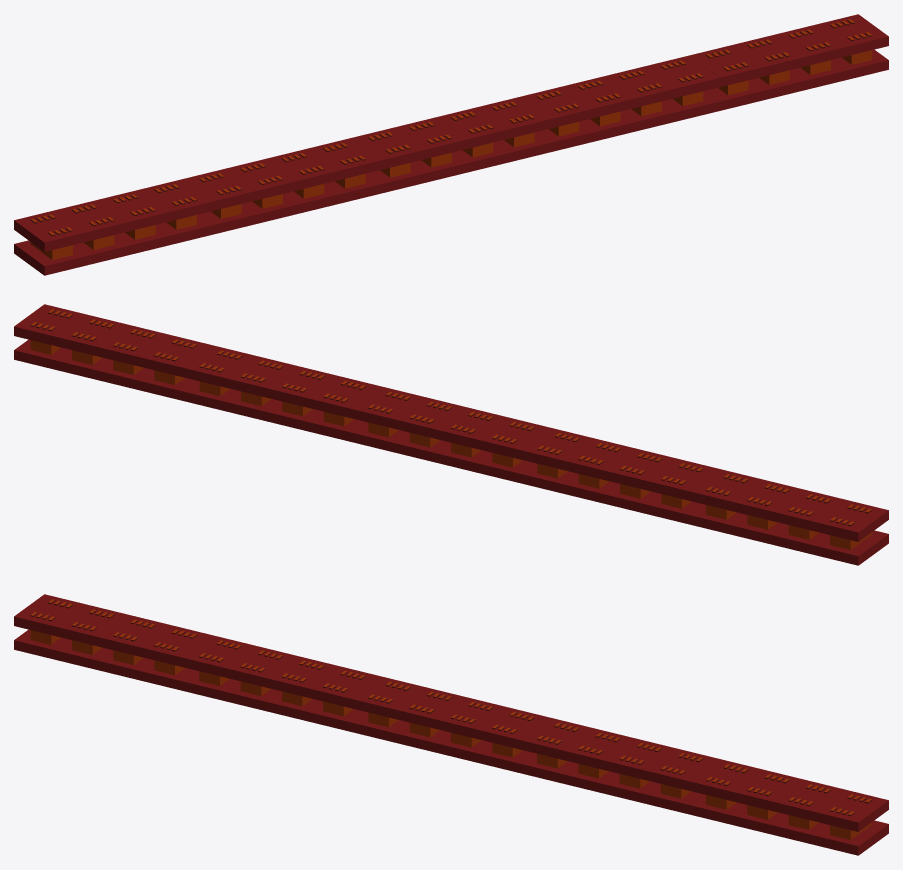
Rendered from Field.obj.
3 renders of one model, top to bottom at view 1: azimuth 30°, elevation 25°; view 2: azimuth 150°, elevation 25°; view 3: azimuth 330°, elevation 25°, orthographic.
Parts seen in each view (by area): view 1: Cube.004; view 2: Cube.004; view 3: Cube.004.
Part boxes in pixels (x1,y1,x2,y2): Cube.004: [14, 14, 888, 275]; Cube.004: [14, 304, 888, 565]; Cube.004: [14, 594, 888, 855].
Size of the model in its own units: 119 by 4.64 by 7.46.
1 material, 1 textured.
